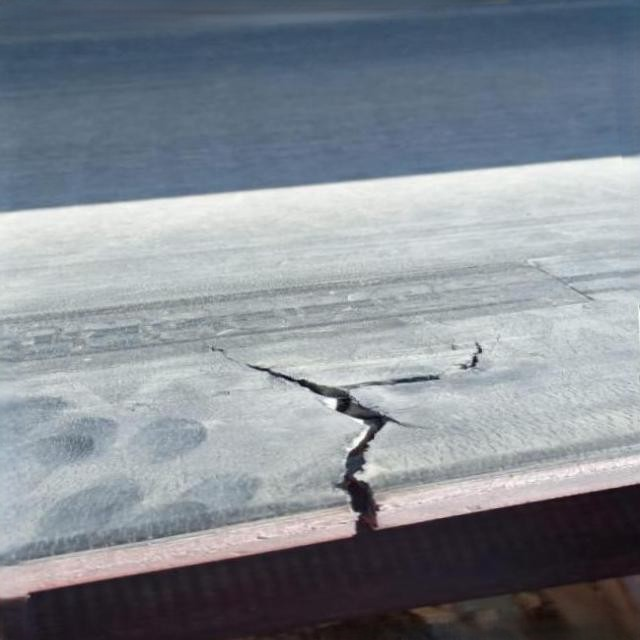Tear: (194, 333, 448, 544), (449, 328, 506, 388)
